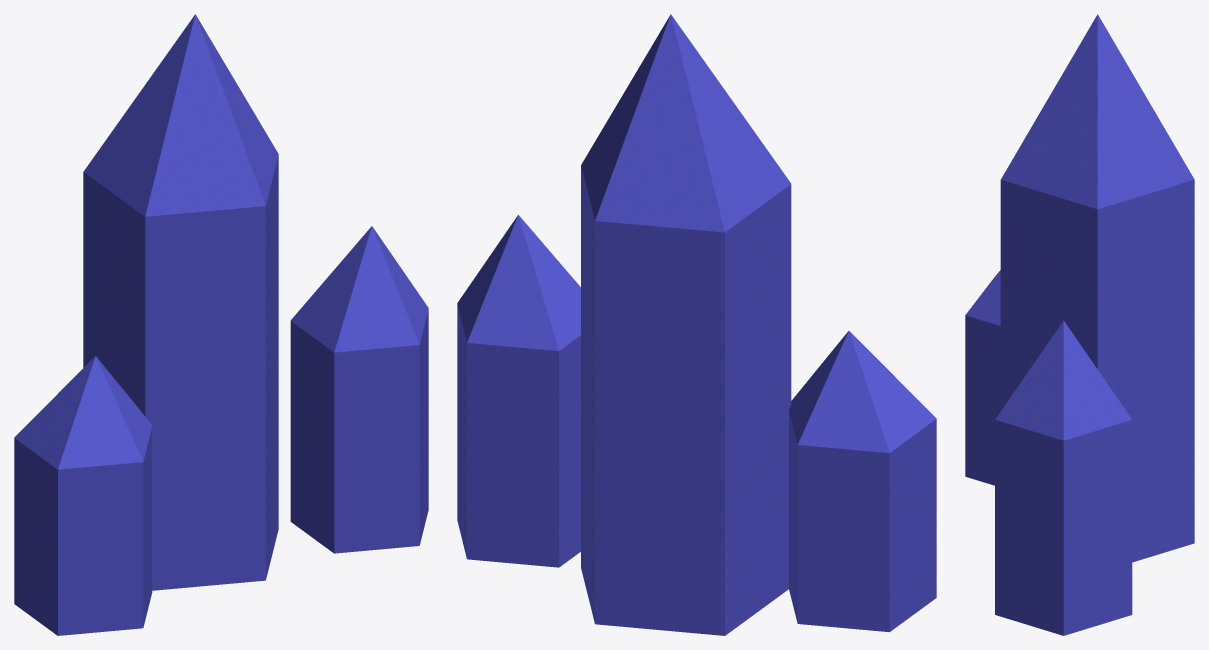
The model's file is Prop_CrystalCluster.obj.
The picture shows the model from 3 angles, left to right: view 1: azimuth 30°, elevation 25°; view 2: azimuth 150°, elevation 25°; view 3: azimuth 270°, elevation 25°; orthographic projection. The views are drawn at different scales.
Parts seen in each view (by area): view 1: Crystal; view 2: Crystal; view 3: Crystal.
Part boxes in pixels (bbox=[...]): Crystal: bbox=[14, 14, 428, 635]; Crystal: bbox=[457, 14, 936, 635]; Crystal: bbox=[965, 14, 1194, 635].
Bounding box in the file's own units: 1.08 × 1.35 × 0.5399.
1 material, 1 textured.
